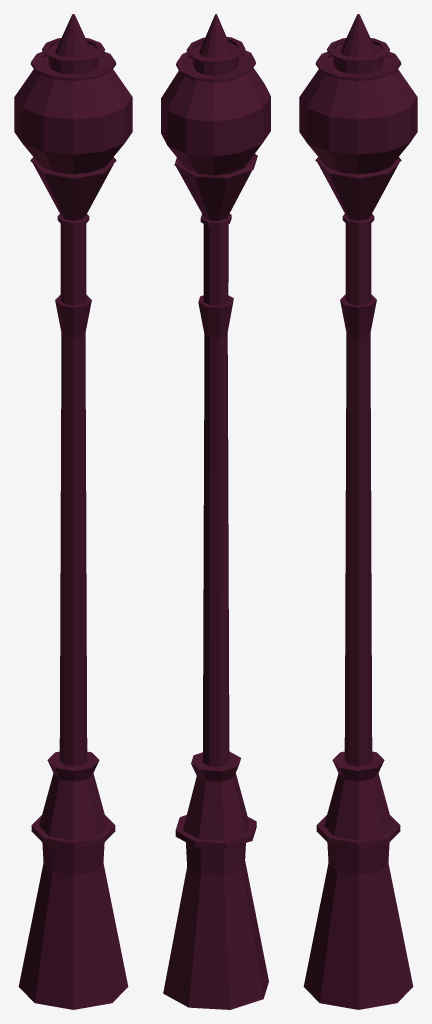
File: Lamp2.obj
The picture shows the model from 3 angles, left to right: view 1: azimuth 90°, elevation 25°; view 2: azimuth 150°, elevation 25°; view 3: azimuth 270°, elevation 25°; orthographic projection.
Parts seen in each view (by area): view 1: 2_low; view 2: 2_low; view 3: 2_low.
Part boxes in pixels (x1,y1,x2,y2): 2_low: (14, 14, 132, 1009); 2_low: (161, 14, 270, 1009); 2_low: (299, 14, 417, 1009).
Bounding box in the file's own units: 0.3309 × 3.24 × 0.3571.
